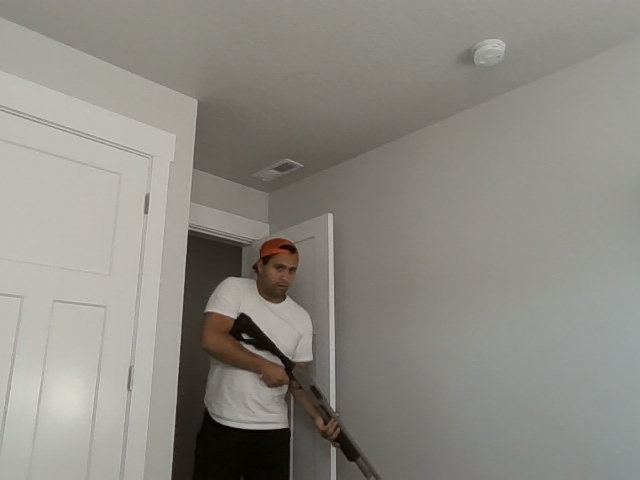shotgun: (230, 312, 385, 479)
